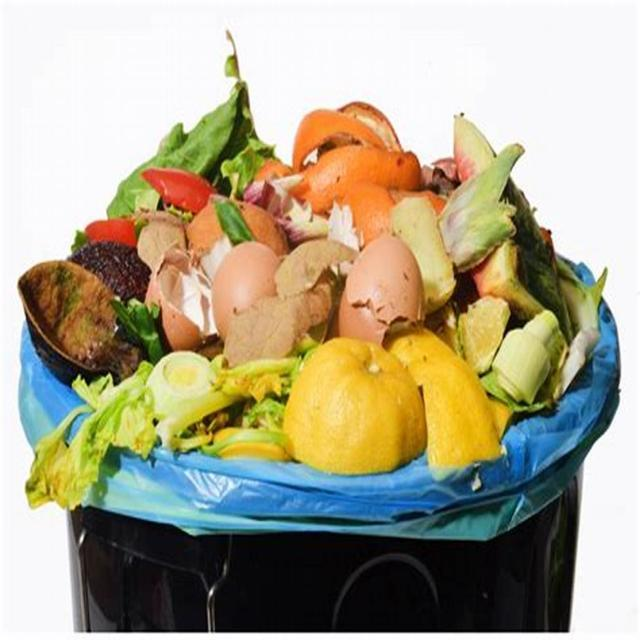Garbage: (0, 4, 640, 635), (95, 318, 618, 540), (30, 397, 71, 444)
